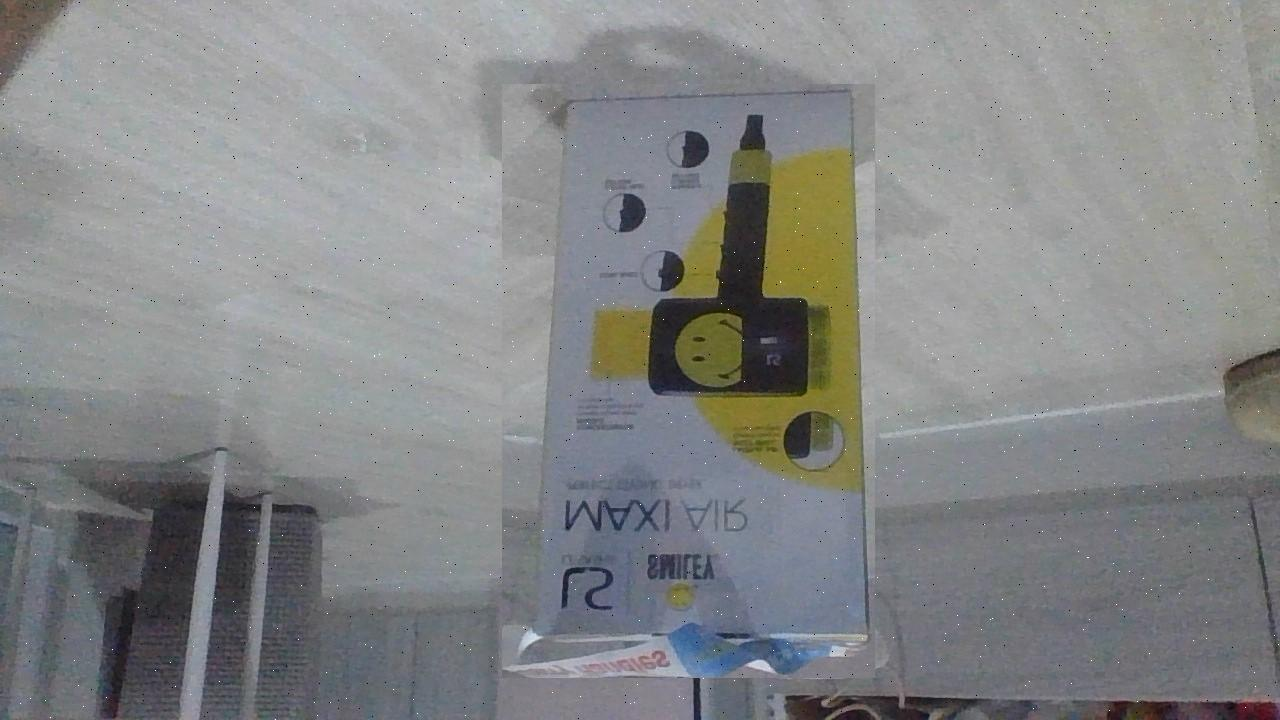IRON: (502, 84, 875, 678)
